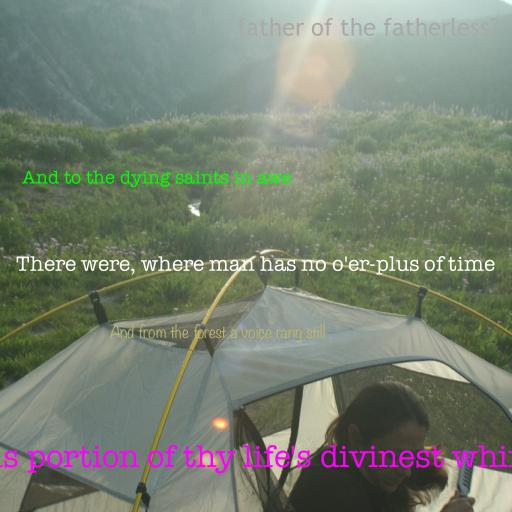American Typewriter: (0, 444, 512, 474), (15, 256, 495, 275), (22, 170, 292, 188)
Noteworthy: (109, 324, 325, 343)
Trebuchet MS: (237, 17, 499, 36)
